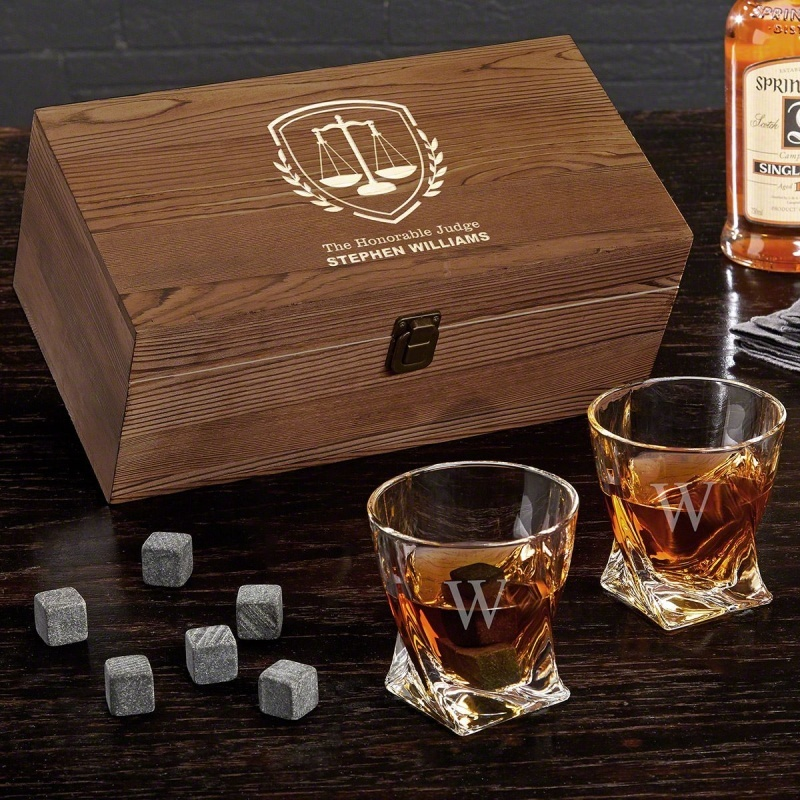whiskey: (361, 460, 586, 733), (586, 378, 788, 630)
